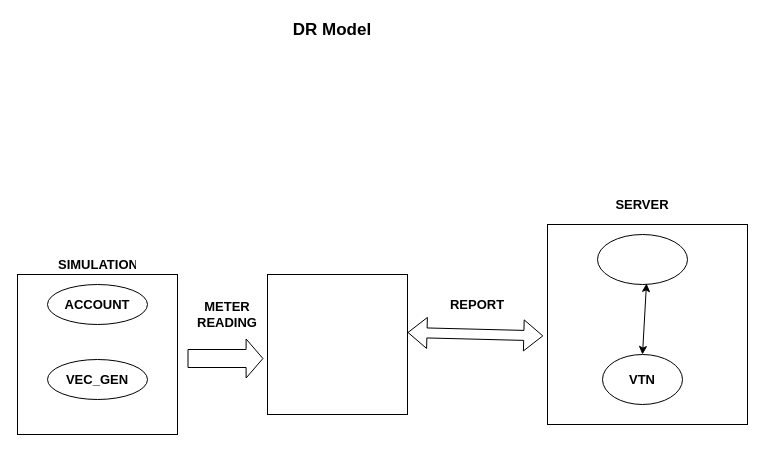
This 765x452 diagram has some shape labels left out. Each missing label, with the centre of its shape:
VEC: point (642, 259)
VEN: point (337, 344)
